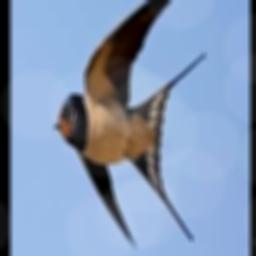Swallow: (54, 0, 205, 247)
